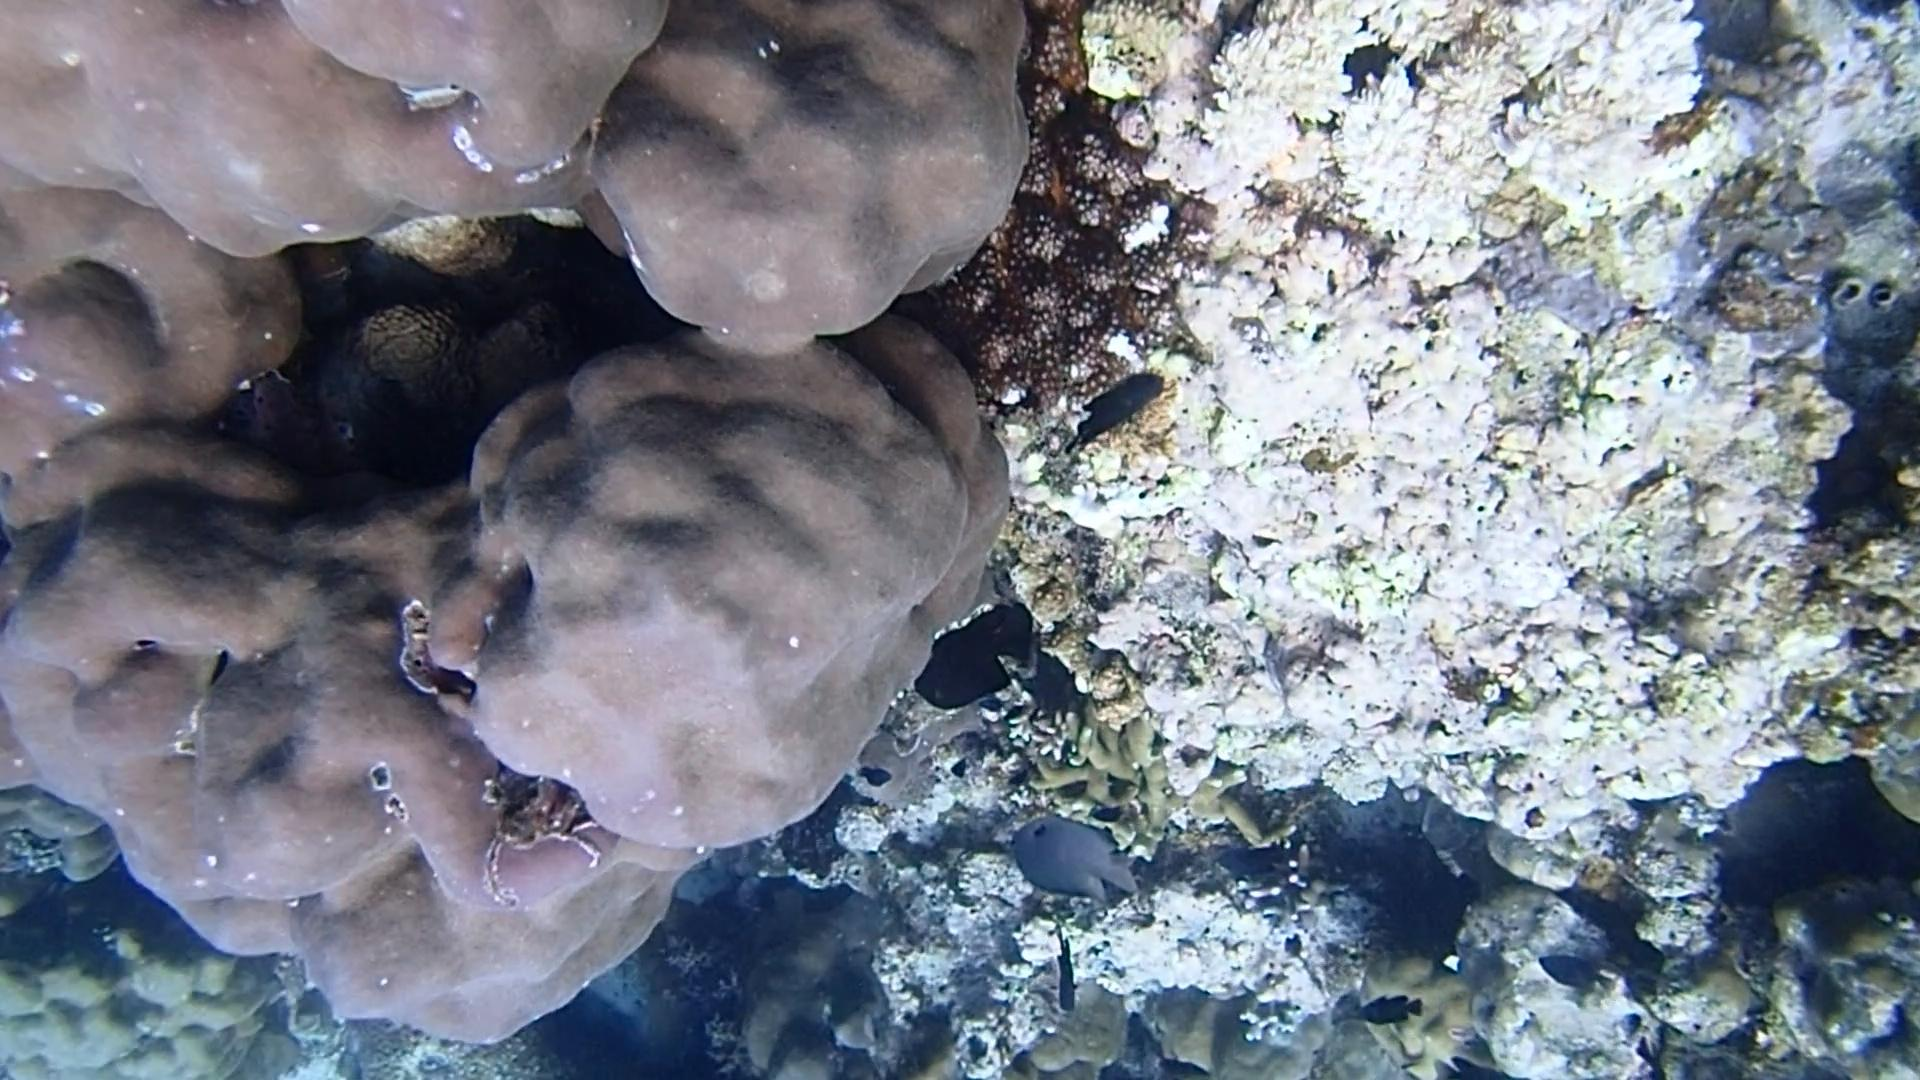Dark Fish: (903, 597, 1039, 719), (1068, 365, 1170, 455), (1042, 914, 1088, 1018), (1530, 944, 1610, 998), (1212, 837, 1295, 885), (1358, 990, 1427, 1033), (858, 757, 895, 798)
Light Fish - Dark Fin: (1002, 802, 1146, 918)
